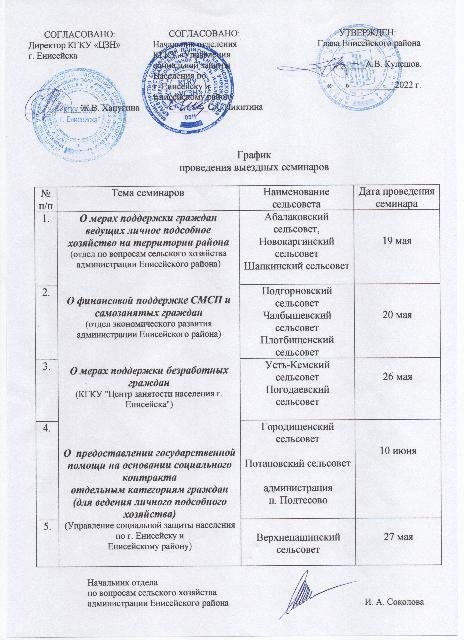stamp: (32, 66, 126, 166), (140, 43, 235, 137), (319, 24, 403, 108)
